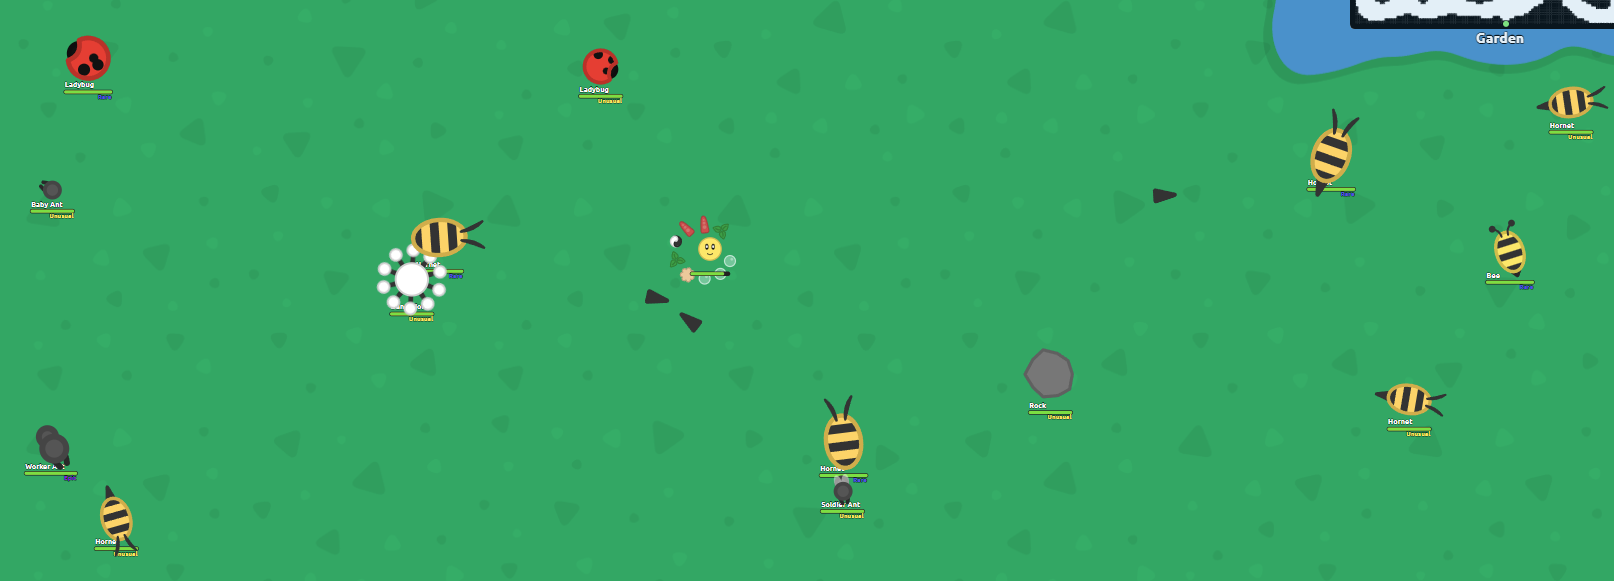Baby Ant: (37, 176, 65, 202)
Bee: (1492, 228, 1526, 278)
Dandelion: (376, 244, 448, 317)
Hornet: (1310, 128, 1354, 199), (821, 410, 865, 471), (409, 217, 471, 260), (99, 482, 135, 544), (1371, 383, 1433, 417), (1535, 85, 1595, 119)
Ladybug: (63, 33, 113, 83), (580, 46, 621, 86)
Rock: (1023, 347, 1076, 400)
Soldier Ant: (832, 472, 855, 508)
Worker Ant: (33, 423, 72, 471)
